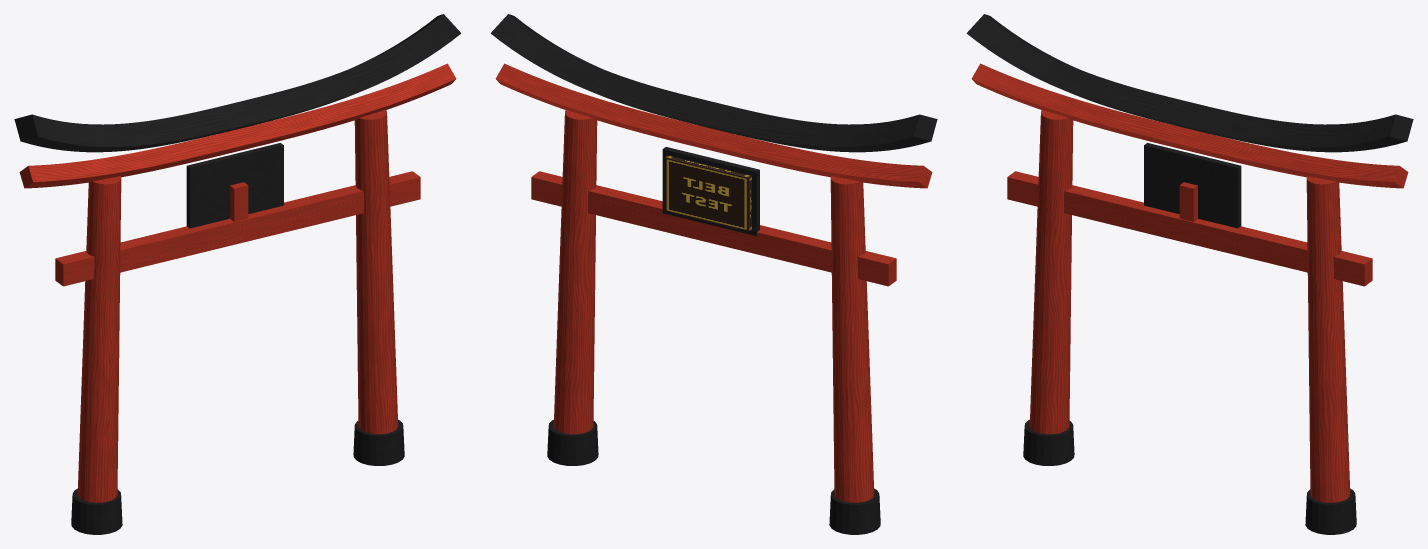
File: 0_ToriiGate.obj
3 renders of one model, left to right at view 1: azimuth 30°, elevation 25°; view 2: azimuth 150°, elevation 25°; view 3: azimuth 330°, elevation 25°, orthographic.
Parts seen in each view (by area): view 1: Pillars, Roof, TopBeam, Nuki, PlaqueFrame, Bases, Strut; view 2: Pillars, Roof, TopBeam, Nuki, Plaque, Bases, PlaqueFrame; view 3: Pillars, Roof, TopBeam, Nuki, PlaqueFrame, Bases, Strut.
Boxes of the visible parts, <box> form: Pillars: <box>77,110,398,502</box>; Roof: <box>14,14,461,152</box>; TopBeam: <box>19,63,456,188</box>; Nuki: <box>55,171,420,286</box>; PlaqueFrame: <box>186,143,283,228</box>; Bases: <box>71,419,404,534</box>; Strut: <box>230,182,248,221</box>; Pillars: <box>553,110,874,502</box>; Roof: <box>490,14,937,152</box>; TopBeam: <box>495,63,932,188</box>; Nuki: <box>531,171,896,286</box>; Plaque: <box>664,155,751,231</box>; Bases: <box>547,419,880,534</box>; PlaqueFrame: <box>662,147,759,235</box>; Pillars: <box>1029,110,1350,502</box>; Roof: <box>966,14,1413,152</box>; TopBeam: <box>971,63,1408,188</box>; Nuki: <box>1007,171,1372,286</box>; PlaqueFrame: <box>1144,143,1241,228</box>; Bases: <box>1023,419,1356,534</box>; Strut: <box>1179,182,1197,221</box>.
Bounding box in the file's own units: 18.5 × 17.31 × 1.9.
Materials: 8 (8 with a texture image).
